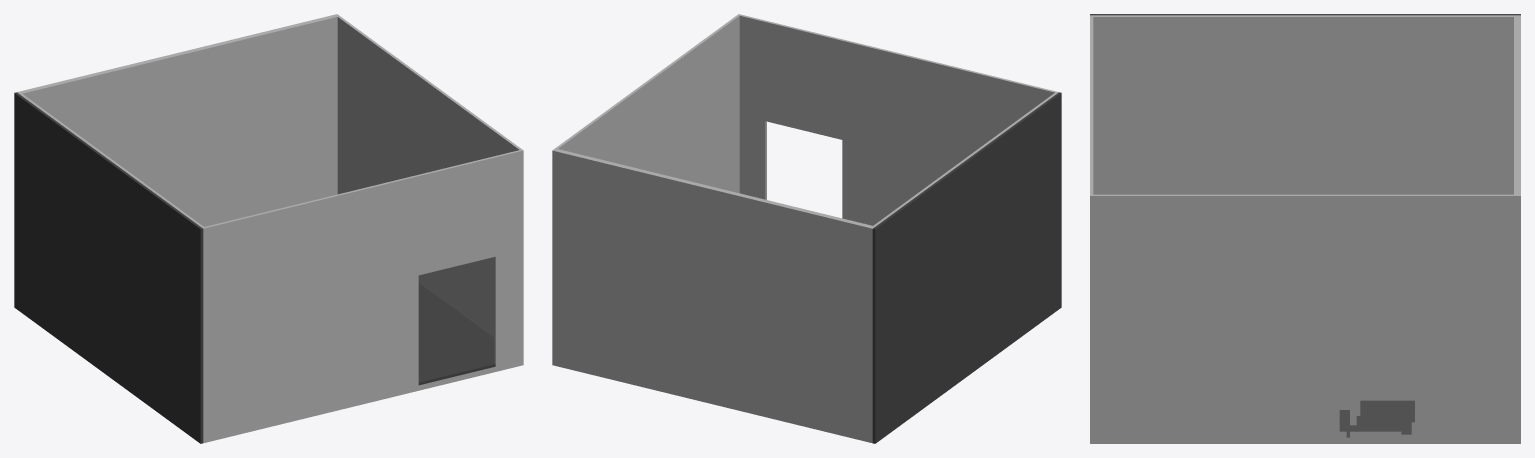
Rendered from 4x2 third (1)-3.obj.
3 views of the same model, side by side, from view 1: azimuth 30°, elevation 25°; view 2: azimuth 150°, elevation 25°; view 3: azimuth 270°, elevation 25° (orthographic). The views are drawn at different scales.
Parts seen in each view (by area): view 1: 4x2 third (1)-3; view 2: 4x2 third (1)-3; view 3: 4x2 third (1)-3.
Boxes of the visible parts, bbox=[...] form: 4x2 third (1)-3: bbox=[14, 14, 523, 443]; 4x2 third (1)-3: bbox=[552, 14, 1061, 443]; 4x2 third (1)-3: bbox=[1090, 14, 1520, 443].
Size of the model in its own units: 126 by 80 by 126.
1 material, 1 textured.
